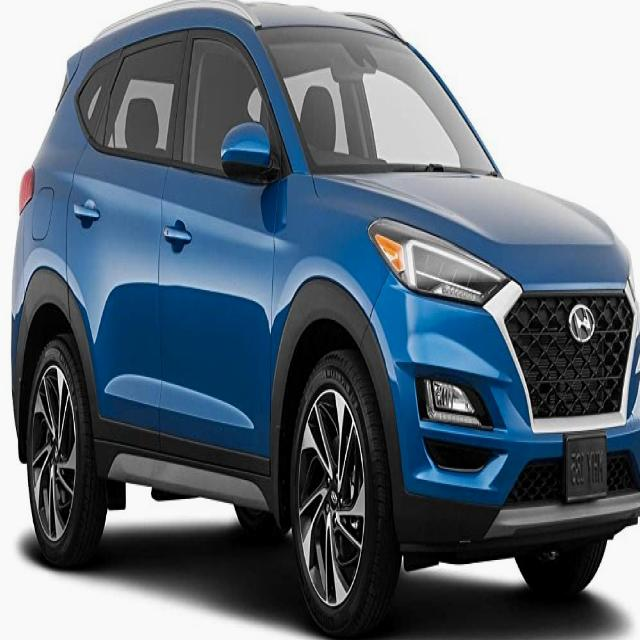blue: (0, 4, 634, 640)
